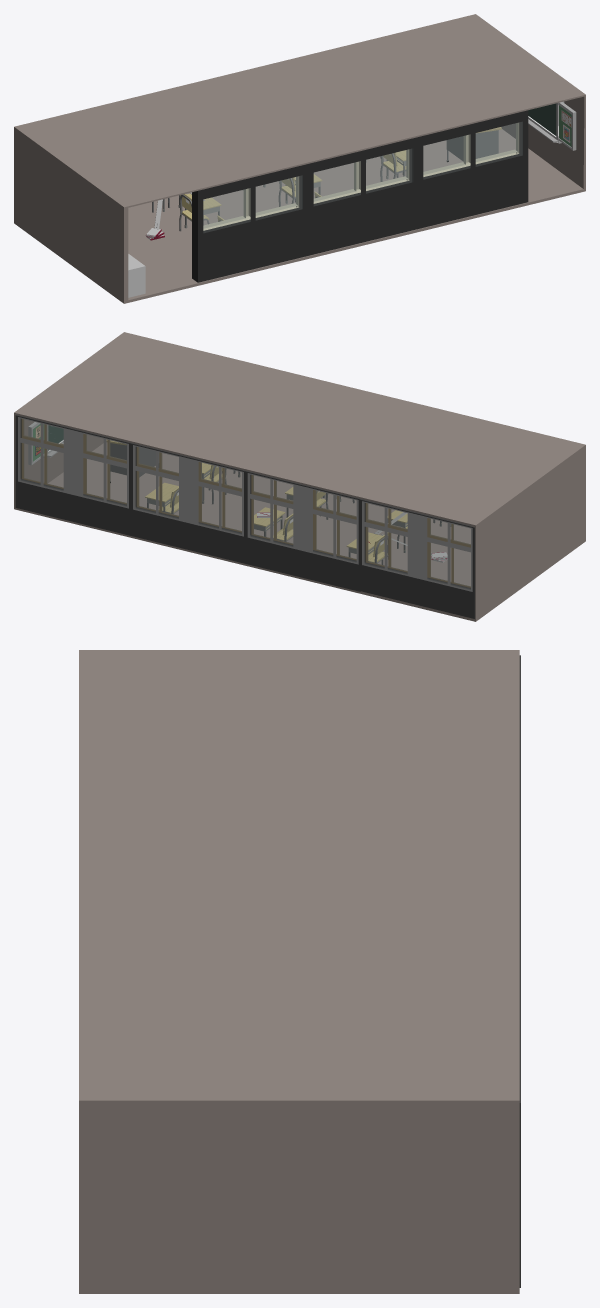
Rendered from LV1_Layout_TausCopy.fbx.
3 views of the same model, one above another, from view 1: azimuth 30°, elevation 25°; view 2: azimuth 150°, elevation 25°; view 3: azimuth 270°, elevation 25° (orthographic). The views are drawn at different scales.
Visible parts, largest first — view 1: LV1_Ceiling:pCube1, Wall2_LookingintoHallway:pCube1, pCube7, pCube6, School_Blackboard_model:pCube2, Lv1_TeacherLectern:Tableleg5, School_Bag_Cupboard:pCube1, polySurface18; view 2: LV1_Ceiling:pCube1, pCube4, pCube5, pCube3, pCube1, School_Blackboard_model:pCube2, Lv1_TeacherLectern:Tableleg5, polySurface22, School_Desk_Model:polySurface8; view 3: LV1_Ceiling:pCube1.
Part boxes in pixels (x1=…): LV1_Ceiling:pCube1: x1=14, y1=14, x2=585, y2=303; Wall2_LookingintoHallway:pCube1: x1=192, y1=164, x2=308, y2=282; pCube7: x1=412, y1=110, x2=528, y2=228; pCube6: x1=302, y1=137, x2=418, y2=255; School_Blackboard_model:pCube2: x1=528, y1=101, x2=576, y2=150; Lv1_TeacherLectern:Tableleg5: x1=446, y1=127, x2=501, y2=161; School_Bag_Cupboard:pCube1: x1=128, y1=254, x2=145, y2=297; polySurface18: x1=380, y1=152, x2=406, y2=181; LV1_Ceiling:pCube1: x1=14, y1=332, x2=585, y2=621; pCube4: x1=130, y1=443, x2=245, y2=563; pCube5: x1=15, y1=414, x2=130, y2=535; pCube3: x1=245, y1=471, x2=360, y2=591; pCube1: x1=359, y1=499, x2=474, y2=618; School_Blackboard_model:pCube2: x1=28, y1=422, x2=63, y2=465; Lv1_TeacherLectern:Tableleg5: x1=106, y1=439, x2=159, y2=482; polySurface22: x1=145, y1=482, x2=178, y2=511; School_Desk_Model:polySurface8: x1=254, y1=507, x2=285, y2=536; LV1_Ceiling:pCube1: x1=79, y1=650, x2=519, y2=1293.
Bounding box in the file's own units: 18.33 × 3.66 × 7.59.
